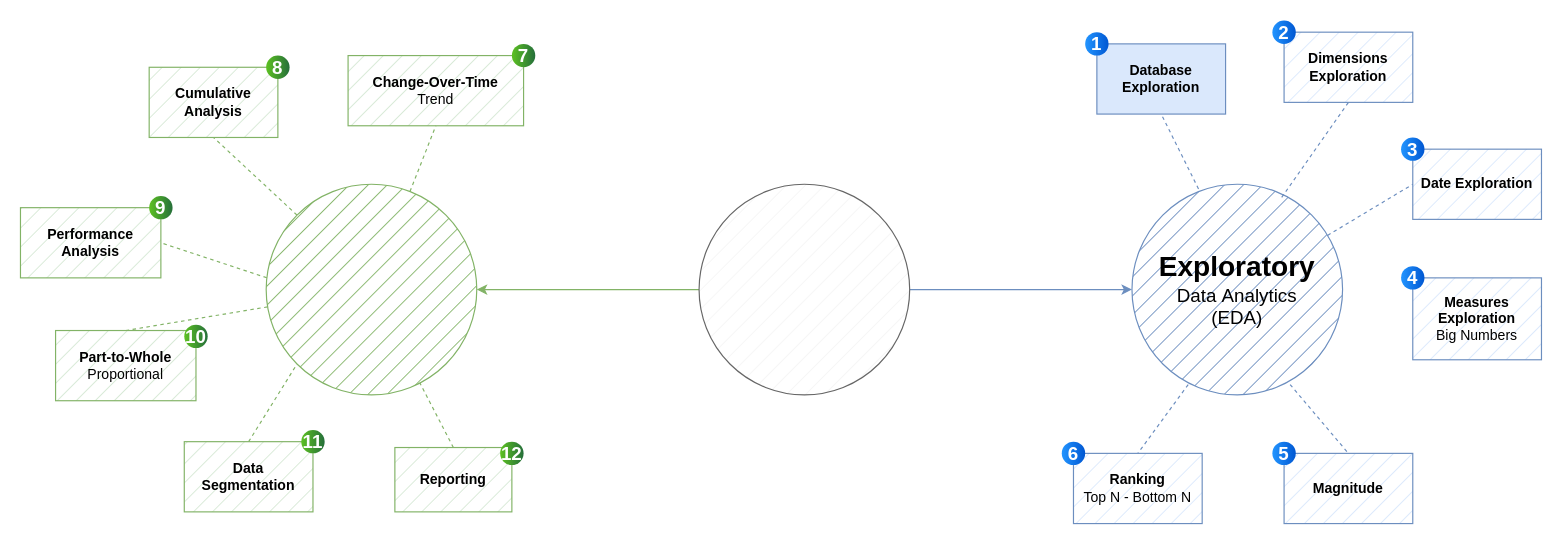
This 1562x544 diagram has some shape labels left out. The shapes that lost their labels are listed below. From the top down, each one's centre as x and y in pixels, then its label:
the point at 371,289: Advance Analytics
the point at 804,289: Data Analytics
